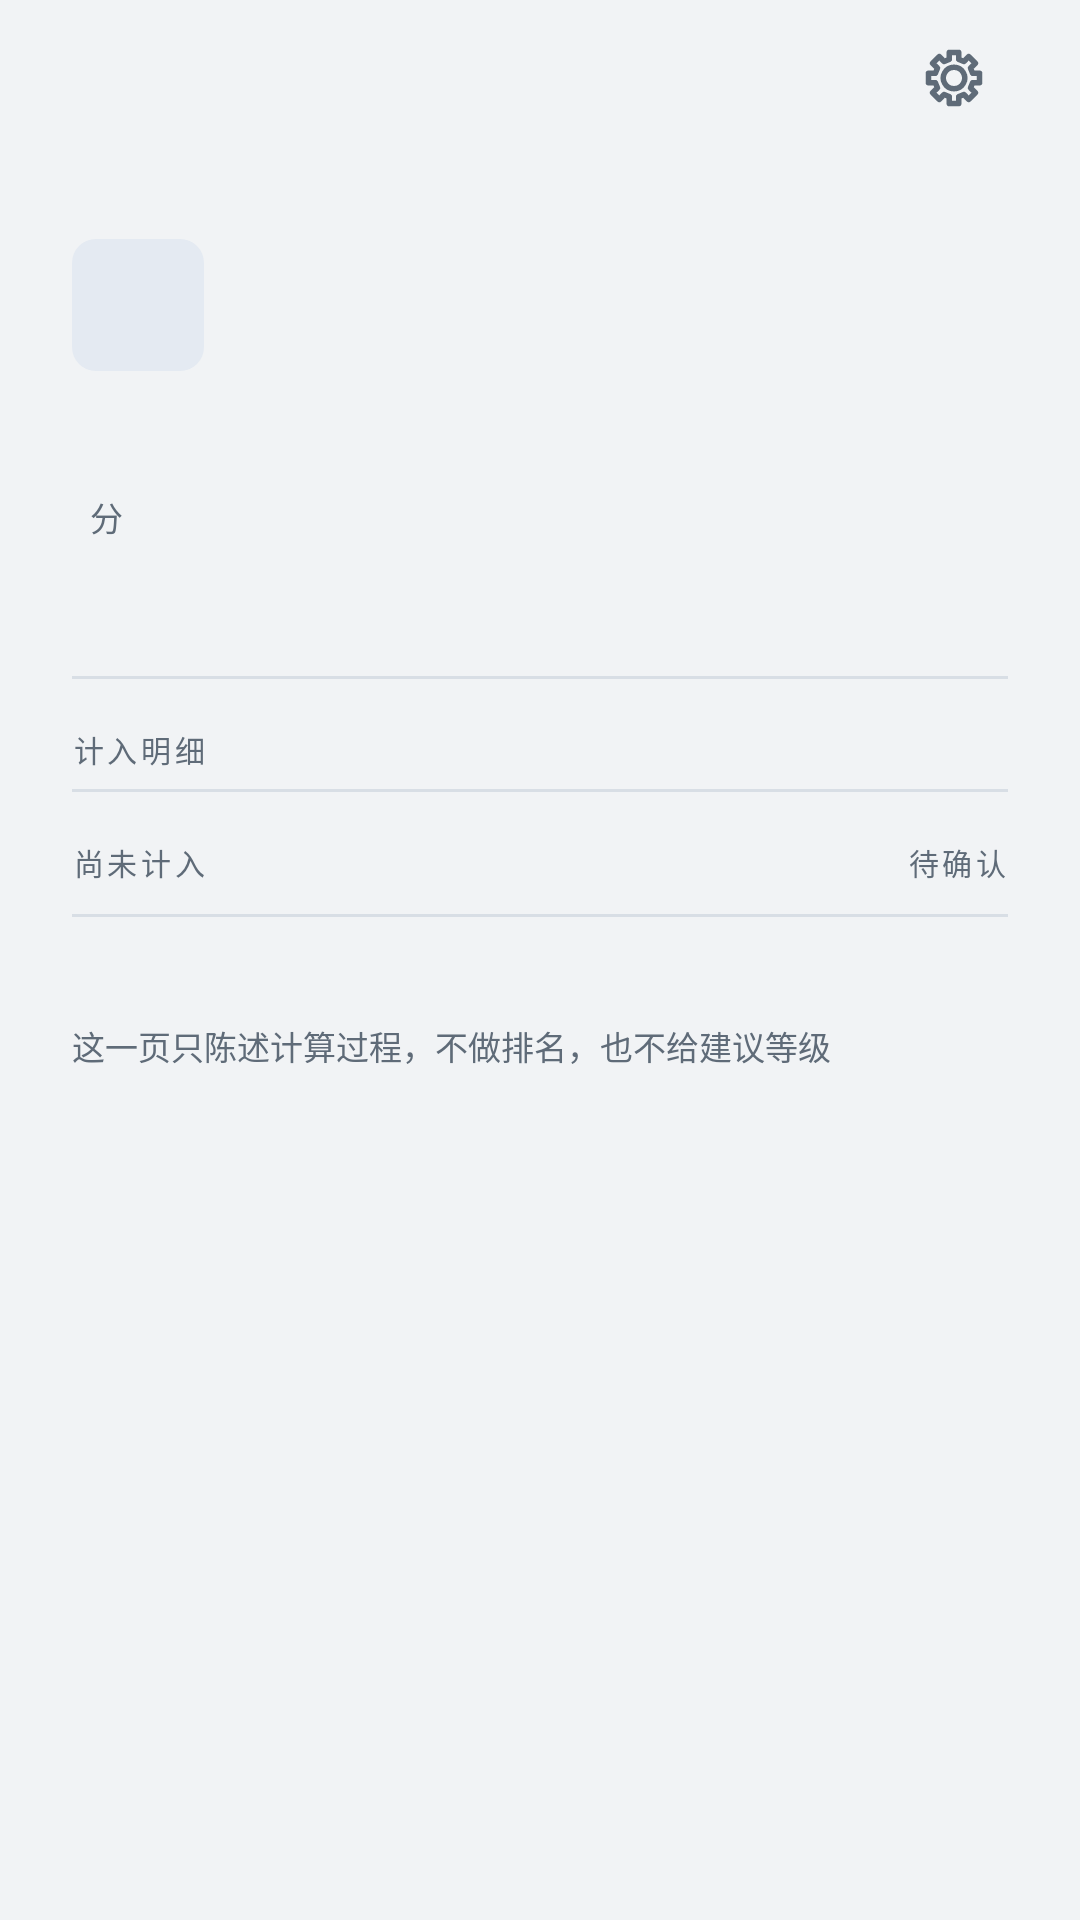

Where to tap for icons on this 1080 × 1920 app screen, as (x,y):
设置: (954,78)
